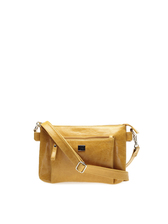bag: (30, 113, 146, 188)
